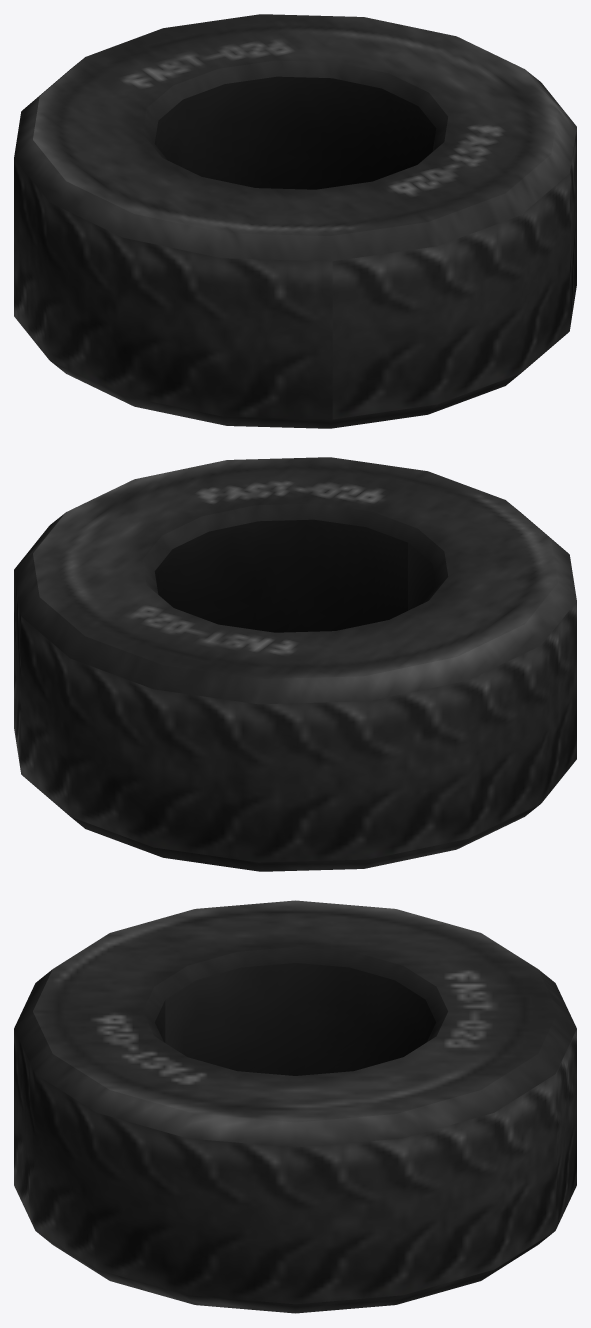
Rendered from luntai.FBX.
3 views of the same model, one above another, from view 1: azimuth 30°, elevation 25°; view 2: azimuth 150°, elevation 25°; view 3: azimuth 270°, elevation 25° (orthographic).
Visible parts, largest first — view 1: Cylinder002; view 2: Cylinder002; view 3: Cylinder002.
Part boxes in pixels (left/top/right/bottom): Cylinder002: left=14, top=14, right=576, bottom=428; Cylinder002: left=14, top=457, right=576, bottom=871; Cylinder002: left=14, top=900, right=576, bottom=1313.
Bounding box in the file's own units: 31.9 × 11.94 × 31.9.
